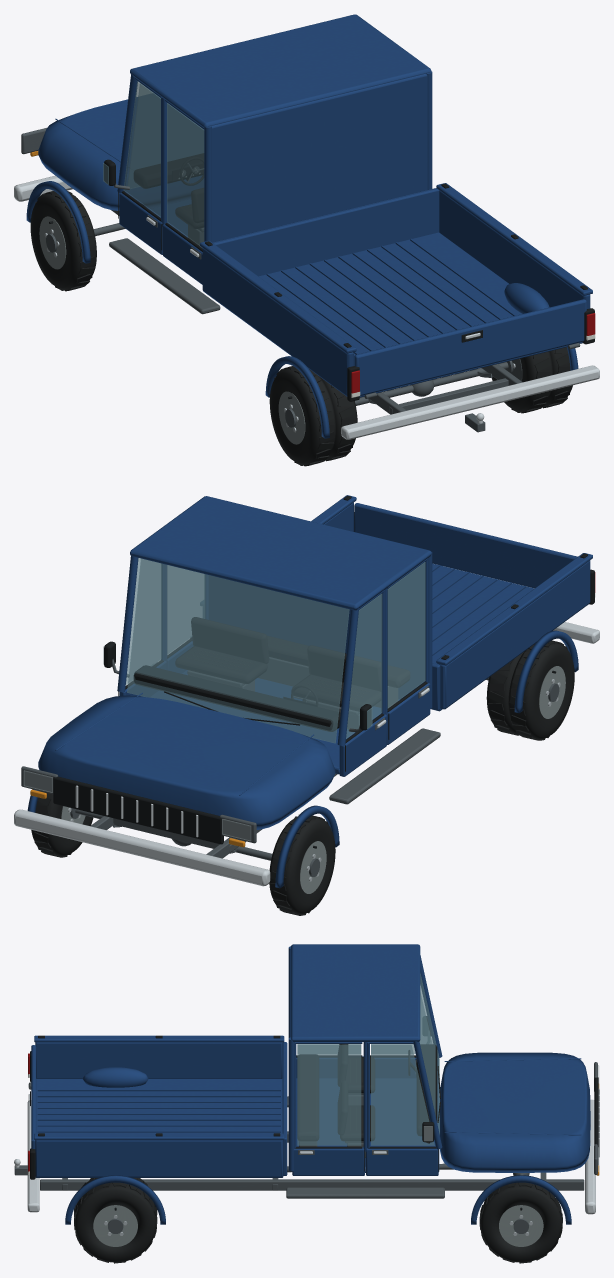
The model's file is HeavyDutyPickup.fbx.
3 views of the same model, one above another, from view 1: azimuth 30°, elevation 25°; view 2: azimuth 150°, elevation 25°; view 3: azimuth 270°, elevation 25° (orthographic). The views are drawn at different scales.
Visible parts, largest first — view 1: HeavyDutyPickup__Body, HeavyDutyPickup__Tailgate, HeavyDutyPickup__Wheel_RL, HeavyDutyPickup__Wheel_FL, HeavyDutyPickup, HeavyDutyPickup__DriverDoorGlass, HeavyDutyPickup__Glass_Windshield, HeavyDutyPickup__Wheel_RR, HeavyDutyPickup__DriverDoor; view 2: HeavyDutyPickup__Body, HeavyDutyPickup__Glass_Windshield, HeavyDutyPickup, HeavyDutyPickup__Tailgate, HeavyDutyPickup__Wheel_RL, HeavyDutyPickup__Wheel_FL, HeavyDutyPickup__DriverDoorGlass, HeavyDutyPickup__DriverDoor, HeavyDutyPickup__Wheel_FR; view 3: HeavyDutyPickup__Body, HeavyDutyPickup, HeavyDutyPickup__Wheel_RR, HeavyDutyPickup__Wheel_FR, HeavyDutyPickup__Glass_Windshield, HeavyDutyPickup__DriverDoor, HeavyDutyPickup__DriverDoorGlass, HeavyDutyPickup__Tailgate.
Boxes of the visible parts, bbox=[...] form: HeavyDutyPickup__Body: bbox=[14, 14, 599, 439]; HeavyDutyPickup__Tailgate: bbox=[354, 299, 586, 395]; HeavyDutyPickup__Wheel_RL: bbox=[269, 366, 357, 466]; HeavyDutyPickup__Wheel_FL: bbox=[30, 191, 96, 291]; HeavyDutyPickup: bbox=[167, 103, 204, 246]; HeavyDutyPickup__DriverDoorGlass: bbox=[103, 81, 160, 217]; HeavyDutyPickup__Glass_Windshield: bbox=[128, 83, 203, 188]; HeavyDutyPickup__Wheel_RR: bbox=[491, 347, 572, 413]; HeavyDutyPickup__DriverDoor: bbox=[104, 78, 162, 254]; HeavyDutyPickup__Body: bbox=[14, 495, 599, 888]; HeavyDutyPickup__Glass_Windshield: bbox=[127, 558, 349, 743]; HeavyDutyPickup: bbox=[126, 558, 425, 707]; HeavyDutyPickup__Tailgate: bbox=[354, 503, 577, 588]; HeavyDutyPickup__Wheel_RL: bbox=[486, 640, 574, 740]; HeavyDutyPickup__Wheel_FL: bbox=[269, 814, 335, 915]; HeavyDutyPickup__DriverDoorGlass: bbox=[346, 594, 382, 738]; HeavyDutyPickup__DriverDoor: bbox=[339, 590, 386, 776]; HeavyDutyPickup__Wheel_FR: bbox=[31, 791, 93, 857]; HeavyDutyPickup__Body: bbox=[14, 944, 599, 1224]; HeavyDutyPickup: bbox=[297, 1044, 434, 1145]; HeavyDutyPickup__Wheel_RR: bbox=[74, 1178, 157, 1263]; HeavyDutyPickup__Wheel_FR: bbox=[479, 1182, 562, 1263]; HeavyDutyPickup__Glass_Windshield: bbox=[419, 973, 439, 1134]; HeavyDutyPickup__DriverDoor: bbox=[370, 1016, 438, 1077]; HeavyDutyPickup__DriverDoorGlass: bbox=[371, 997, 431, 1054]; HeavyDutyPickup__Tailgate: bbox=[28, 1045, 36, 1148].
Bounding box in the file's own units: 227 × 211 × 508.
3 materials, 1 textured.
